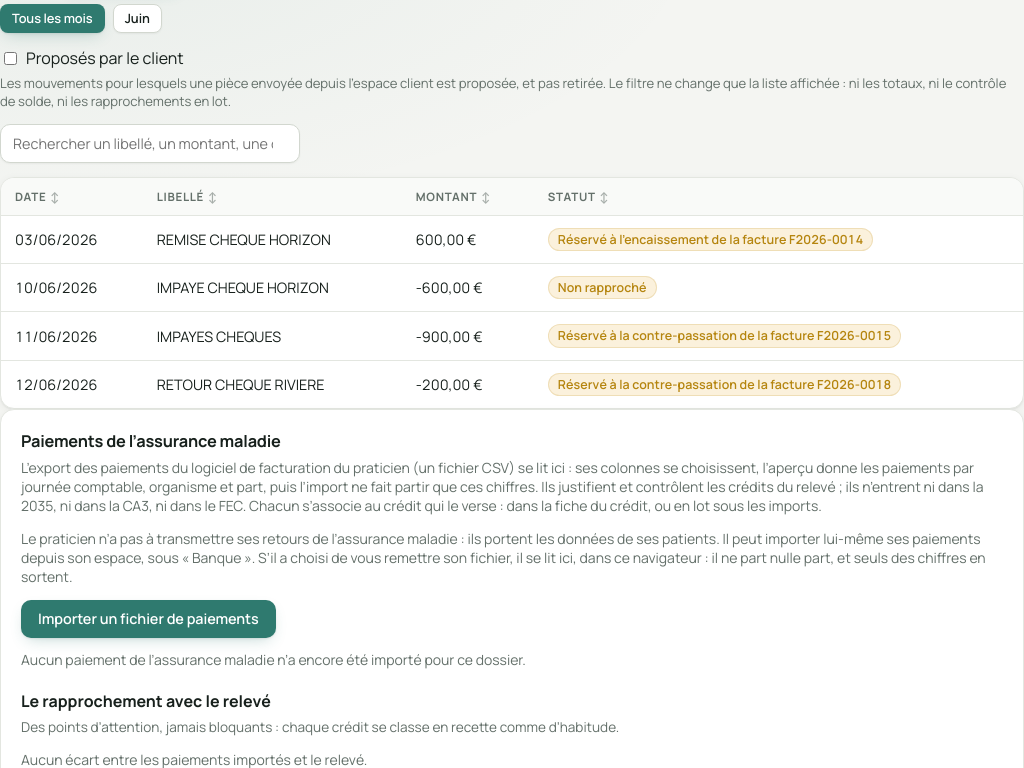
un débit RÉSERVÉ que ses contre-passations font : classer par elles › la phrase, la confirmation qui nomme la contre-passation, l’appel et ses paramètres, puis la relecture
The width and height of the screenshot is (1024, 768).
(page scrolled)
Click the row that starts with "RETOUR CHEQUE RIVIERE": (56,385) [1,360,1023,408]
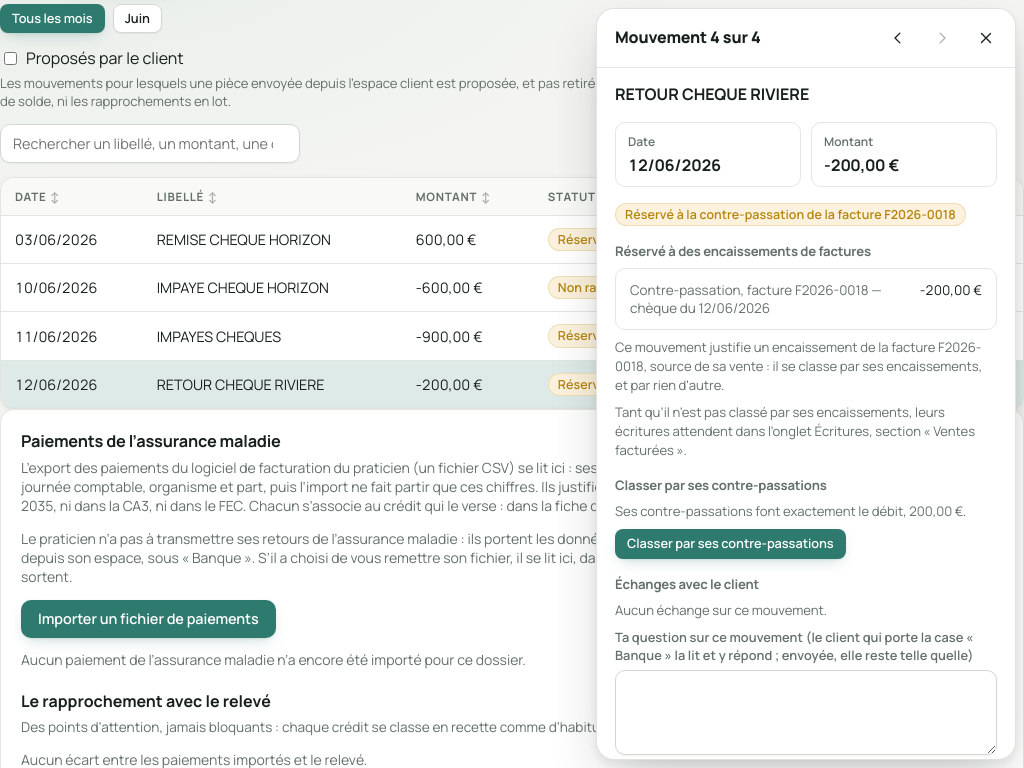
Result: the element "Classer par ses contre-passations" shows "Ses contre-passations font exactement le débit, 200,00 €." at [615,502,966,520]
Click the button "Classer par ses contre-passations": (730,544) [615,529,846,559]
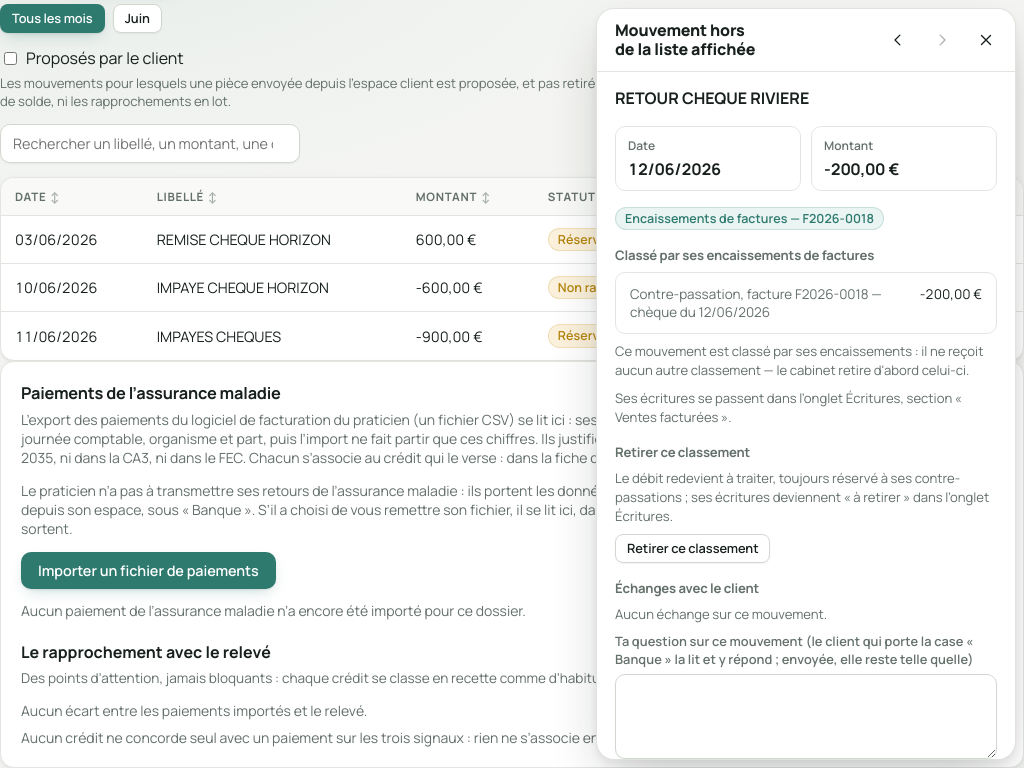
Result: the element "Retirer ce classement" is shown at [615,443,997,563]
